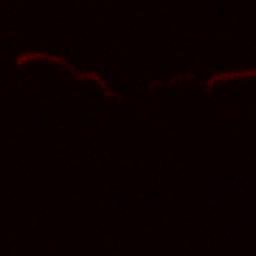debris: (6, 51, 73, 66), (145, 74, 198, 88), (209, 67, 256, 81), (73, 68, 104, 85), (103, 86, 121, 96)
